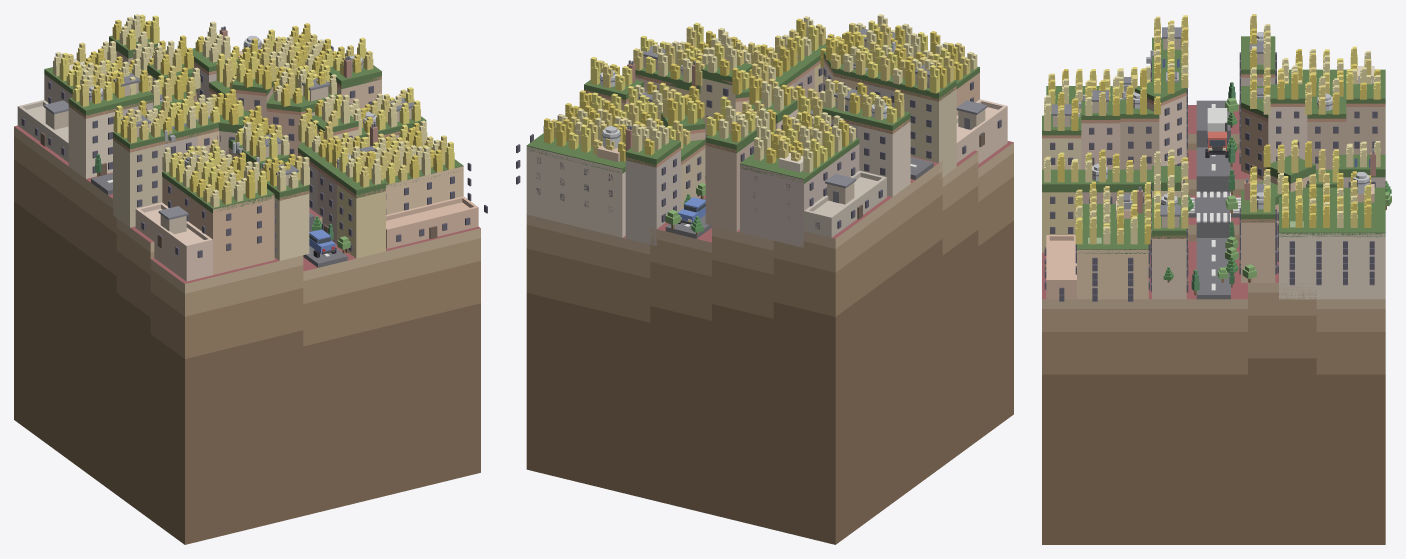
File: block_17_urbanfarm_65.glb
The picture shows the model from 3 angles, left to right: view 1: azimuth 30°, elevation 25°; view 2: azimuth 150°, elevation 25°; view 3: azimuth 270°, elevation 25°; orthographic projection. The views are drawn at different scales.
Parts seen in each view (by area): view 1: Patch_MidRight_b15_UF, Cerda_MidRight_b15_UF, Insets_MidRight_b15_UF, UFR_Cerda_MidRight_b15_UF, CerdaRoofProps_MidRight_b15_UF, UFR_Insets_MidRight_b15_UF, Roads_MidRight_b15_UF, Asset_Car.036_UF; view 2: Patch_MidRight_b15_UF, Insets_MidRight_b15_UF, Cerda_MidRight_b15_UF, UFR_Cerda_MidRight_b15_UF, CerdaRoofProps_MidRight_b15_UF, UFR_Insets_MidRight_b15_UF, Roads_MidRight_b15_UF; view 3: Patch_MidRight_b15_UF, Cerda_MidRight_b15_UF, Insets_MidRight_b15_UF, UFR_Cerda_MidRight_b15_UF, UFR_Insets_MidRight_b15_UF, Roads_MidRight_b15_UF, CerdaRoofProps_MidRight_b15_UF, Asset_Truck.009_UF, Zebra_MidRight_b15_UF.
Boxes of the visible parts, left/top/right/bottom form: Patch_MidRight_b15_UF: left=14, top=125, right=480, bottom=544; Cerda_MidRight_b15_UF: left=68, top=45, right=408, bottom=260; Insets_MidRight_b15_UF: left=17, top=45, right=487, bottom=281; UFR_Cerda_MidRight_b15_UF: left=68, top=35, right=426, bottom=200; CerdaRoofProps_MidRight_b15_UF: left=43, top=26, right=414, bottom=234; UFR_Insets_MidRight_b15_UF: left=44, top=67, right=463, bottom=213; Roads_MidRight_b15_UF: left=91, top=173, right=347, bottom=267; Asset_Car.036_UF: left=309, top=229, right=336, bottom=257; Patch_MidRight_b15_UF: left=526, top=141, right=1013, bottom=544; Insets_MidRight_b15_UF: left=516, top=72, right=1007, bottom=247; Cerda_MidRight_b15_UF: left=584, top=58, right=956, bottom=245; UFR_Cerda_MidRight_b15_UF: left=584, top=43, right=956, bottom=167; CerdaRoofProps_MidRight_b15_UF: left=599, top=29, right=987, bottom=204; UFR_Insets_MidRight_b15_UF: left=526, top=66, right=979, bottom=183; Roads_MidRight_b15_UF: left=665, top=157, right=933, bottom=238; Patch_MidRight_b15_UF: left=1042, top=105, right=1385, bottom=544; Cerda_MidRight_b15_UF: left=1042, top=52, right=1385, bottom=299; Insets_MidRight_b15_UF: left=1044, top=66, right=1385, bottom=301; UFR_Cerda_MidRight_b15_UF: left=1042, top=36, right=1385, bottom=238; UFR_Insets_MidRight_b15_UF: left=1046, top=69, right=1385, bottom=253; Roads_MidRight_b15_UF: left=1188, top=100, right=1240, bottom=299; CerdaRoofProps_MidRight_b15_UF: left=1051, top=27, right=1375, bottom=227; Asset_Truck.009_UF: left=1205, top=108, right=1228, bottom=157; Zebra_MidRight_b15_UF: left=1188, top=191, right=1240, bottom=222.
Bounding box in the file's own units: 10 × 11.87 × 9.68.
